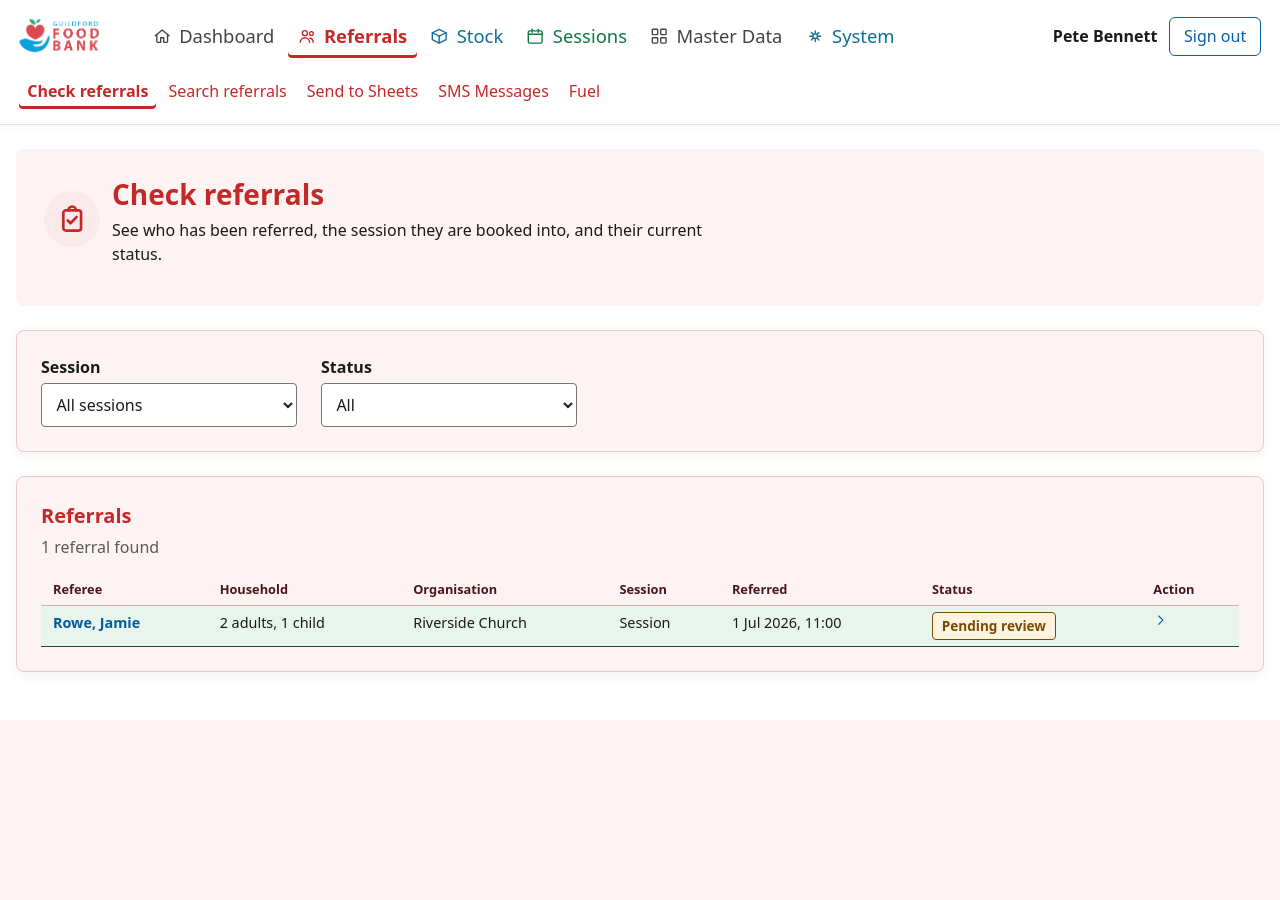
App › empties the cache when a lapsed sign-in ends the session, not only when someone signs out
The width and height of the screenshot is (1280, 900).
Check: the link "Rowe, Jamie" is shown, box [53,613,140,632]
Step 1. Select "Reviewed" in the dropdown labelled "Status" → (449, 405), box [321,383,577,427]
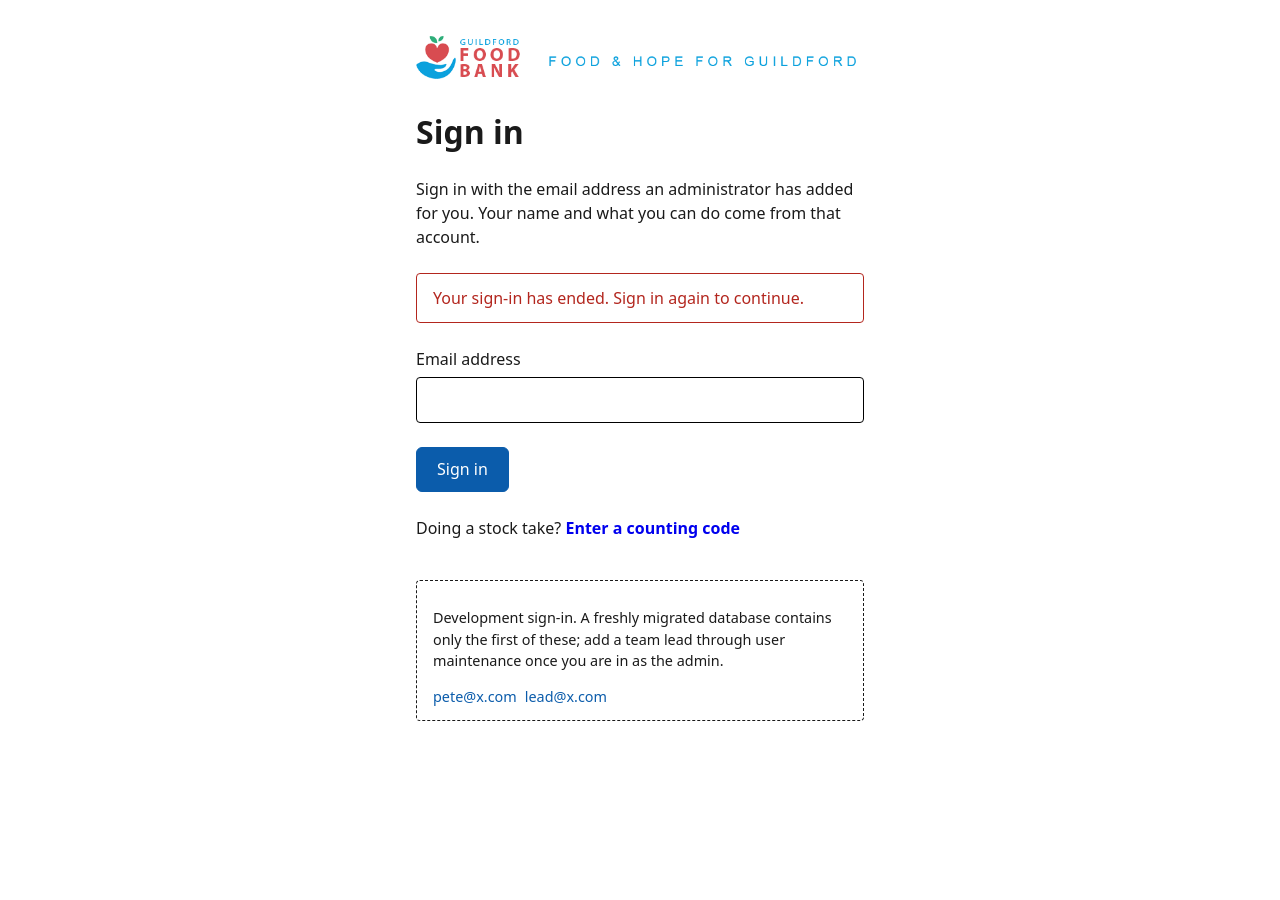
Check: the heading "Sign in" is shown, box [416,110,524,153]
Check: the link "Rowe, Jamie" is gone
